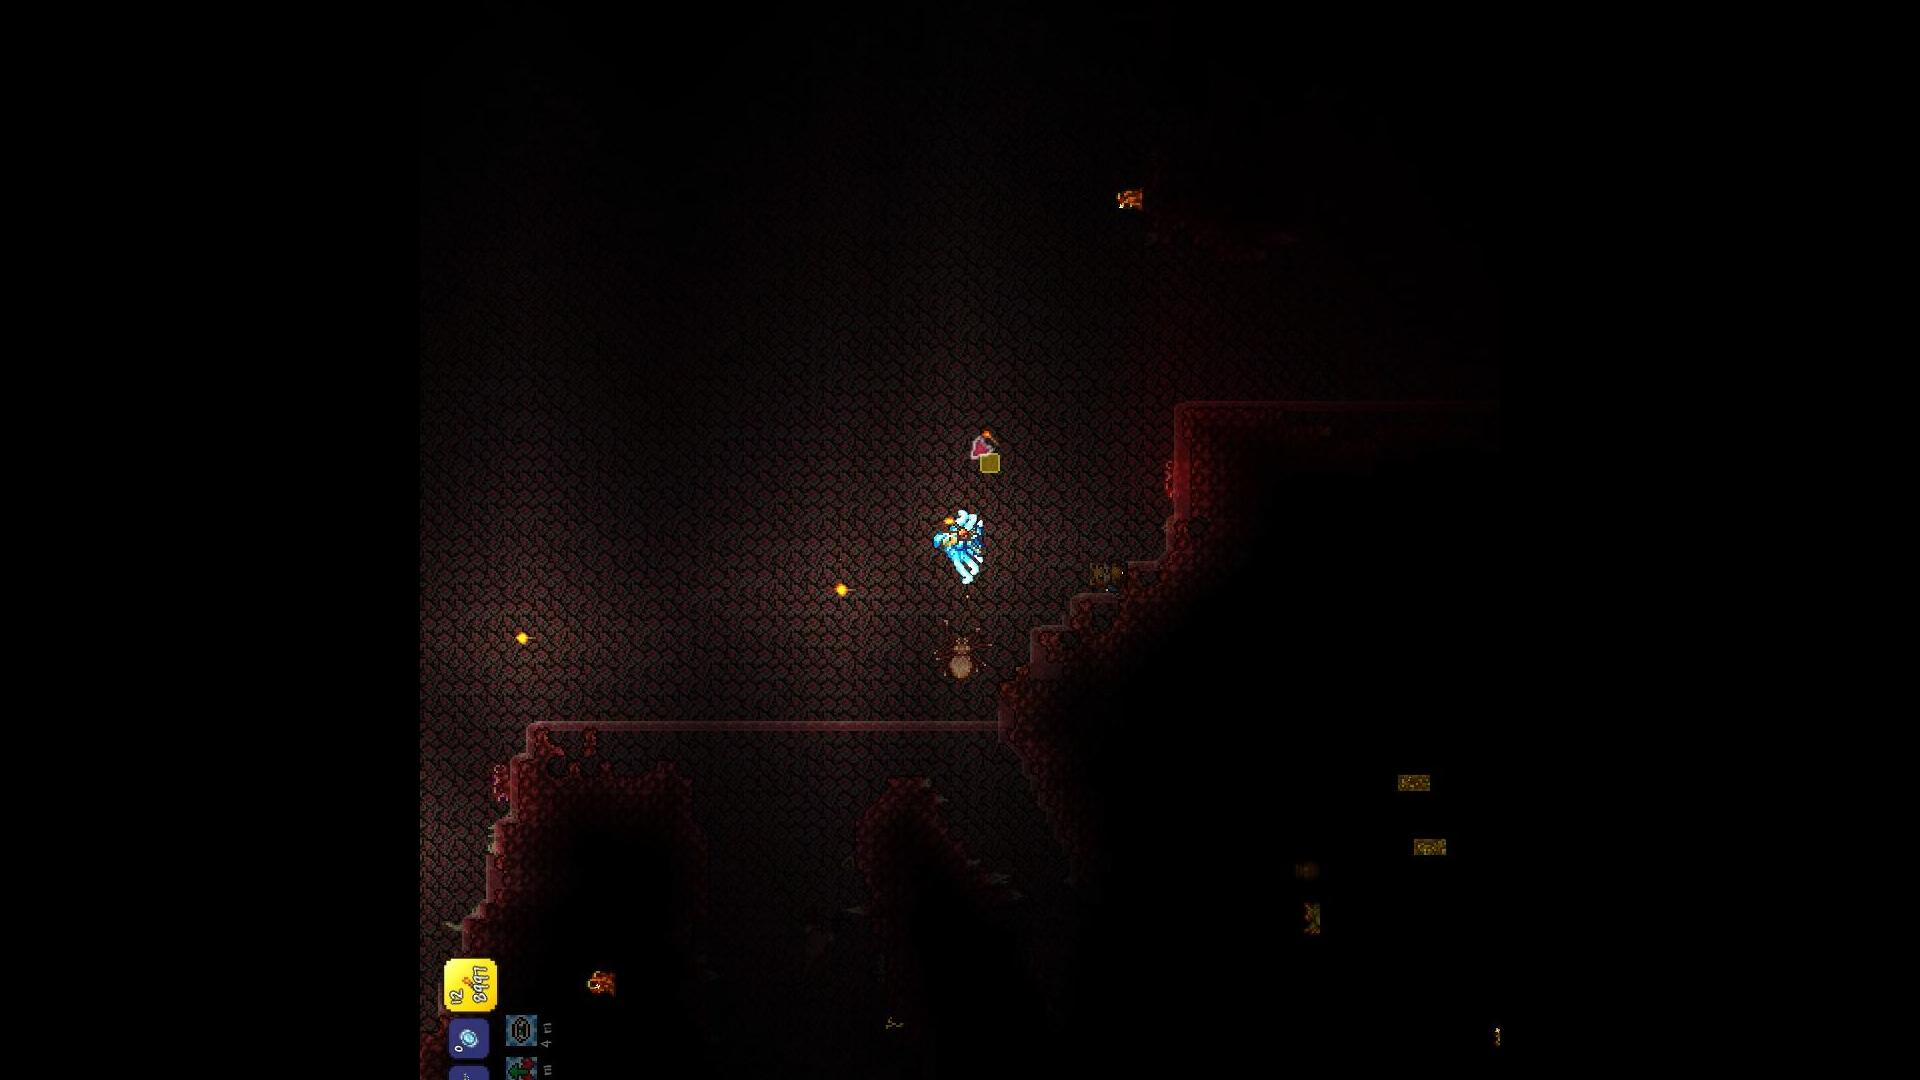spider: (920, 617, 993, 691)
